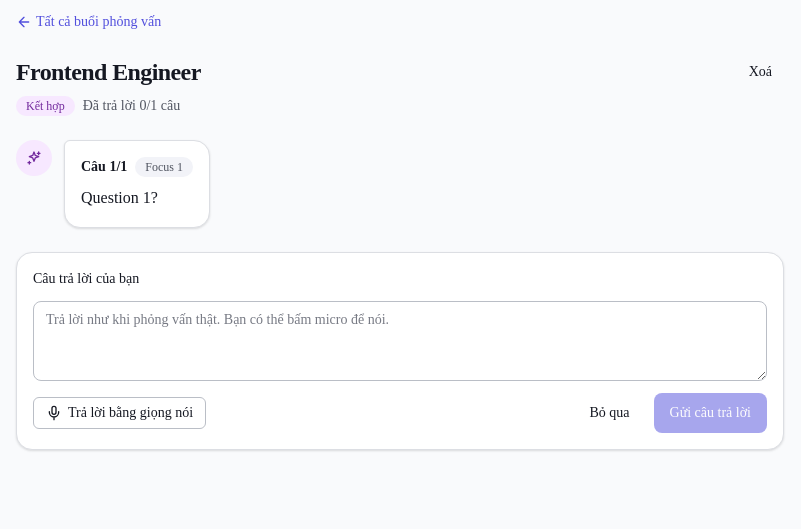
Test: InterviewSessionView › keeps the answer when the AI is busy so it can be sent again
Type "Câu trả lời" into the text box labelled "Câu trả lời của bạn". click: (400, 341)
box: left=33, top=301, right=767, bottom=381
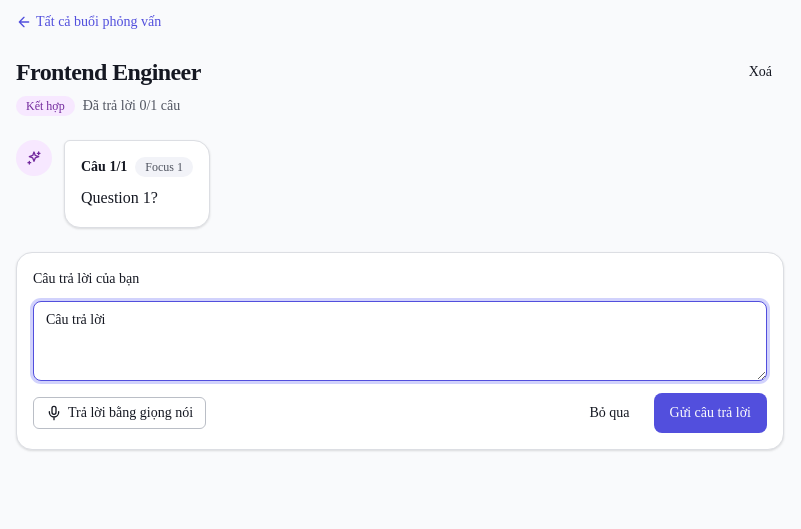
Click the button "Gửi câu trả lời". click: click(710, 413)
box: left=654, top=393, right=767, bottom=433
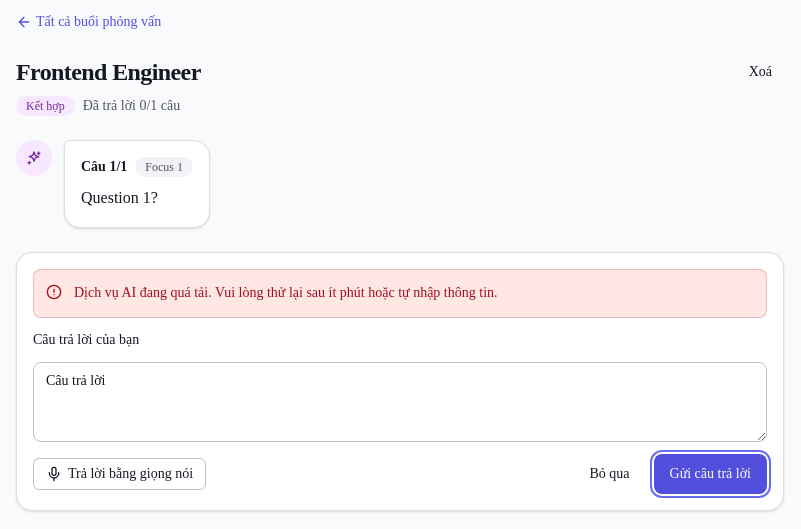
Expected: the message shows "Dịch vụ AI đang quá tải", left=74, top=285, right=498, bottom=300
